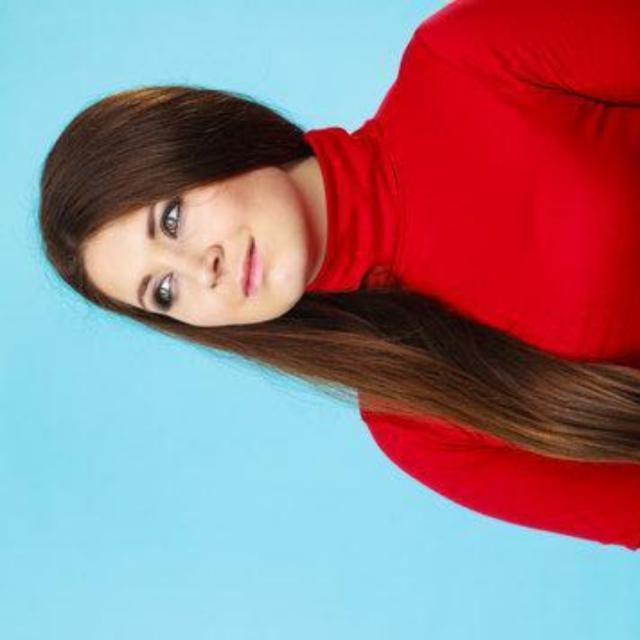Natural: (41, 76, 358, 358)
